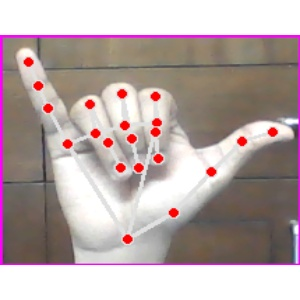Y: (2, 37, 300, 266)
